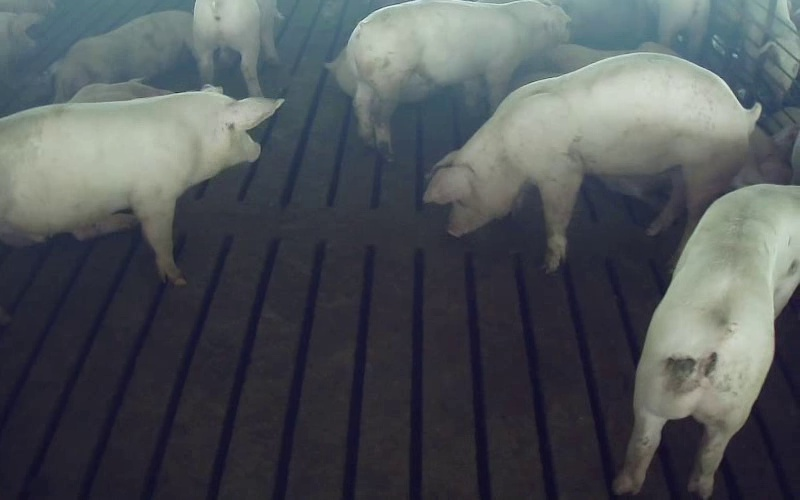pig: (424, 53, 759, 271), (614, 187, 799, 497), (0, 87, 282, 283)
